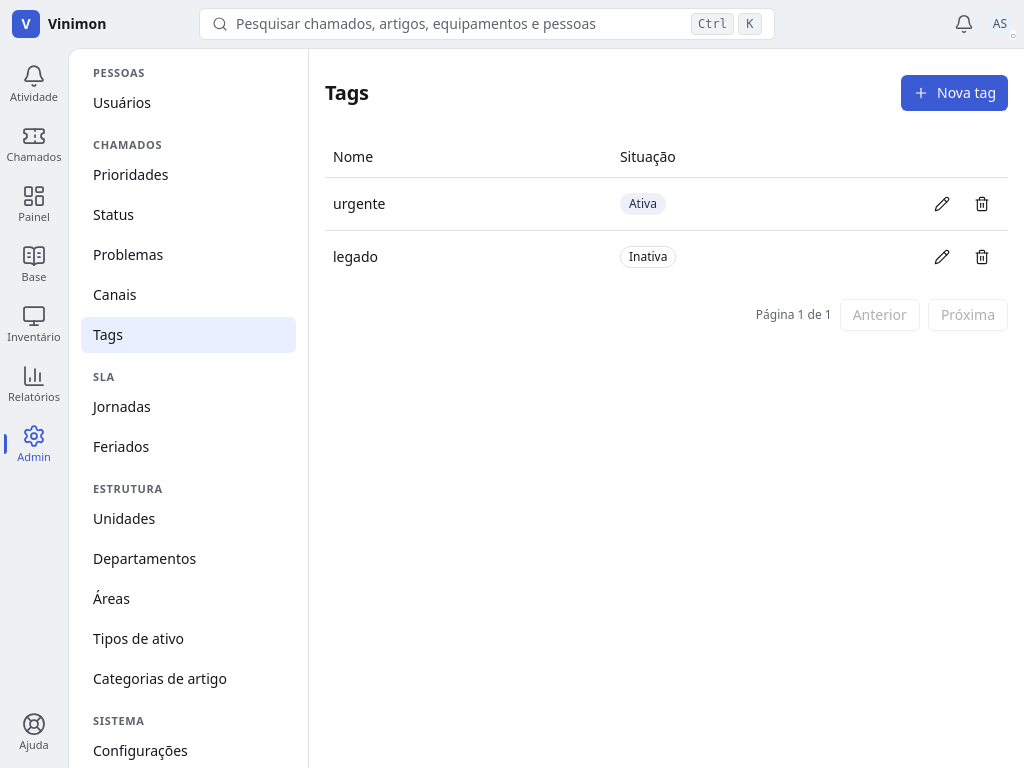
Test: /admin/tags › (b) criar faz POST /tags com o body esperado
This screenshot has width=1024, height=768.
Click the button "Nova tag" at (954, 93), box [901,75,1008,111]
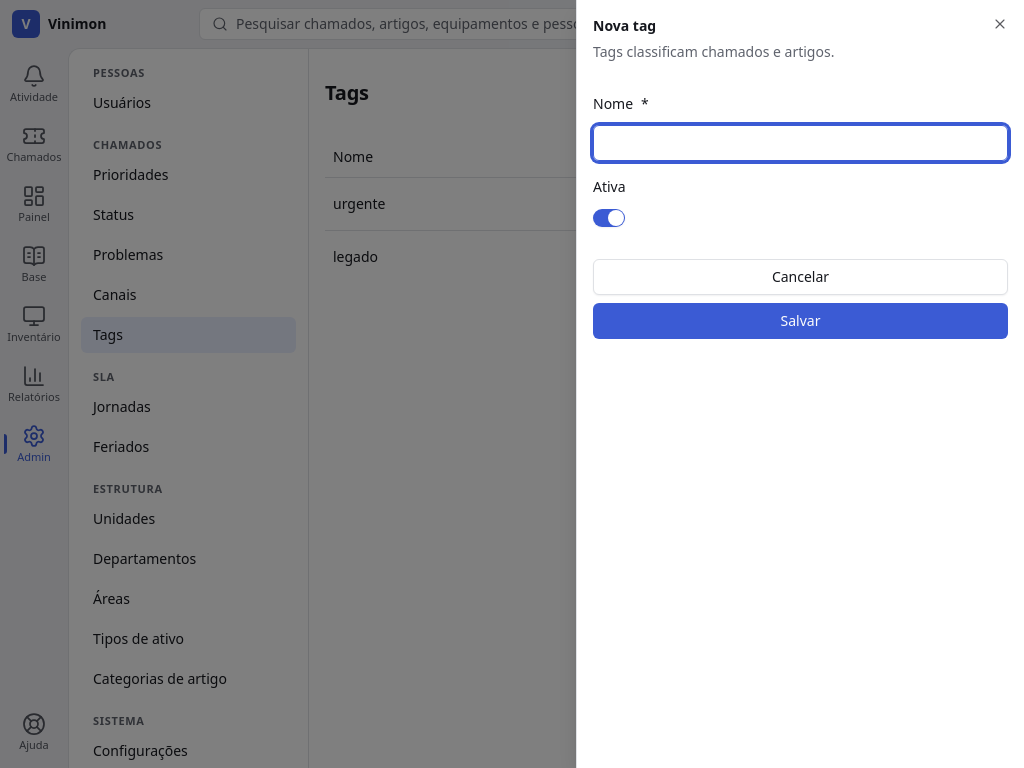
Type "cliente-vip" into the field labelled "Nome *" at (800, 143), box [593,125,1008,161]
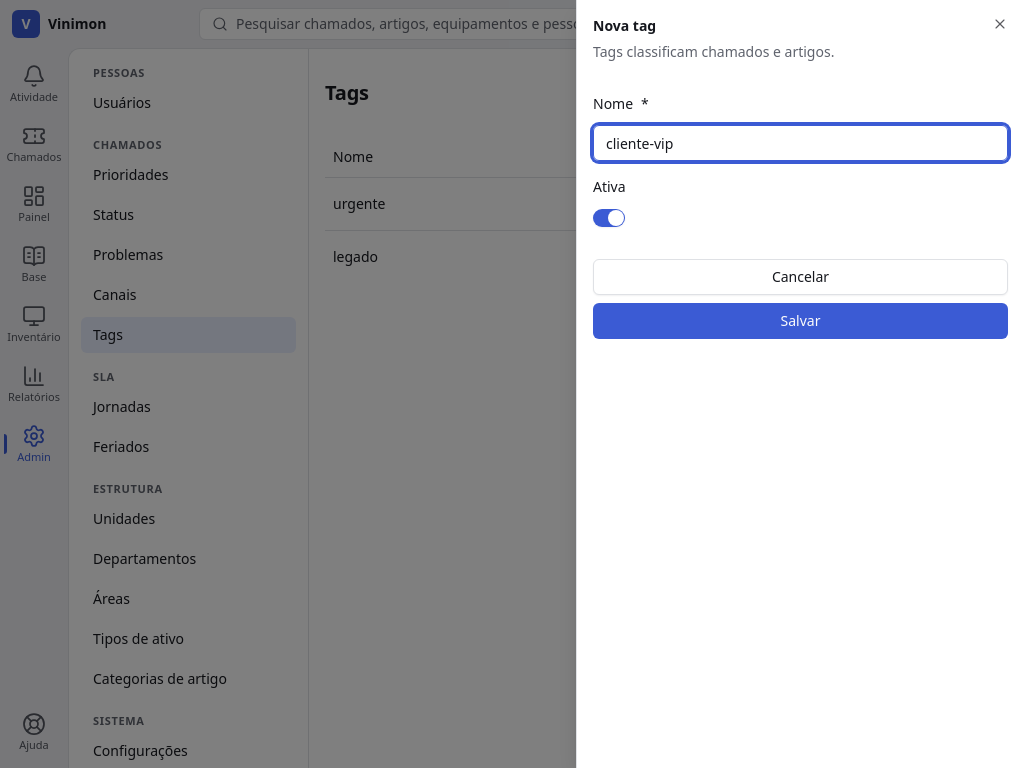
Click the button "Salvar" at (800, 321), box [593,303,1008,339]
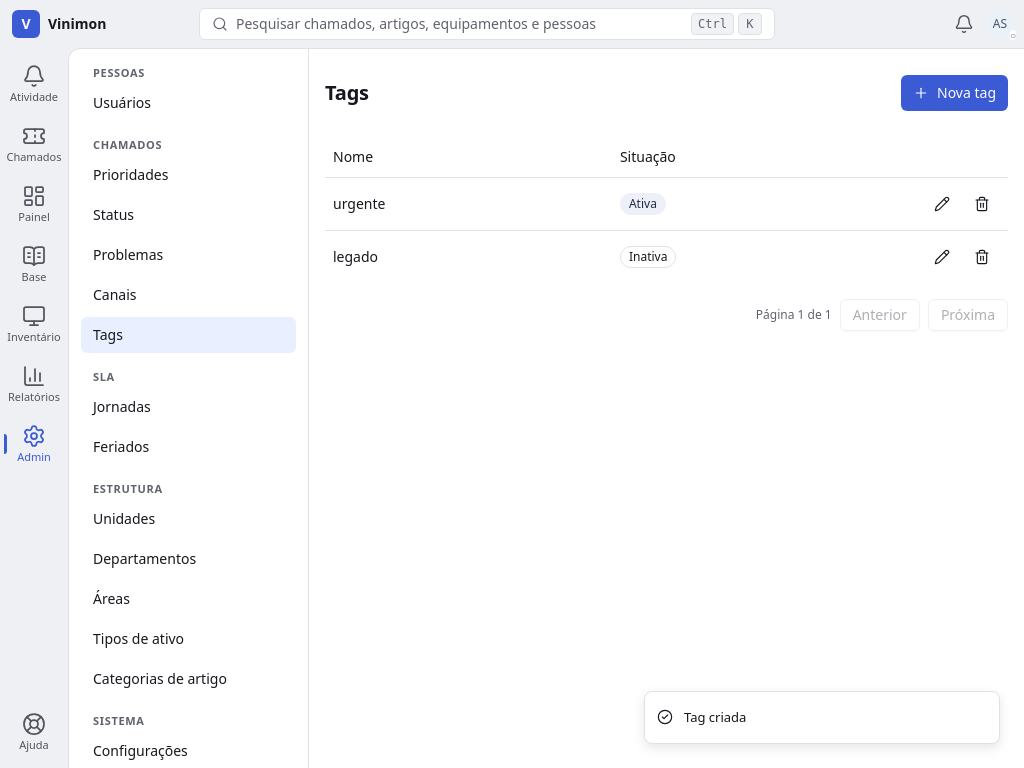
Expected: the text "Tag criada" is shown, [684,708,746,727]
